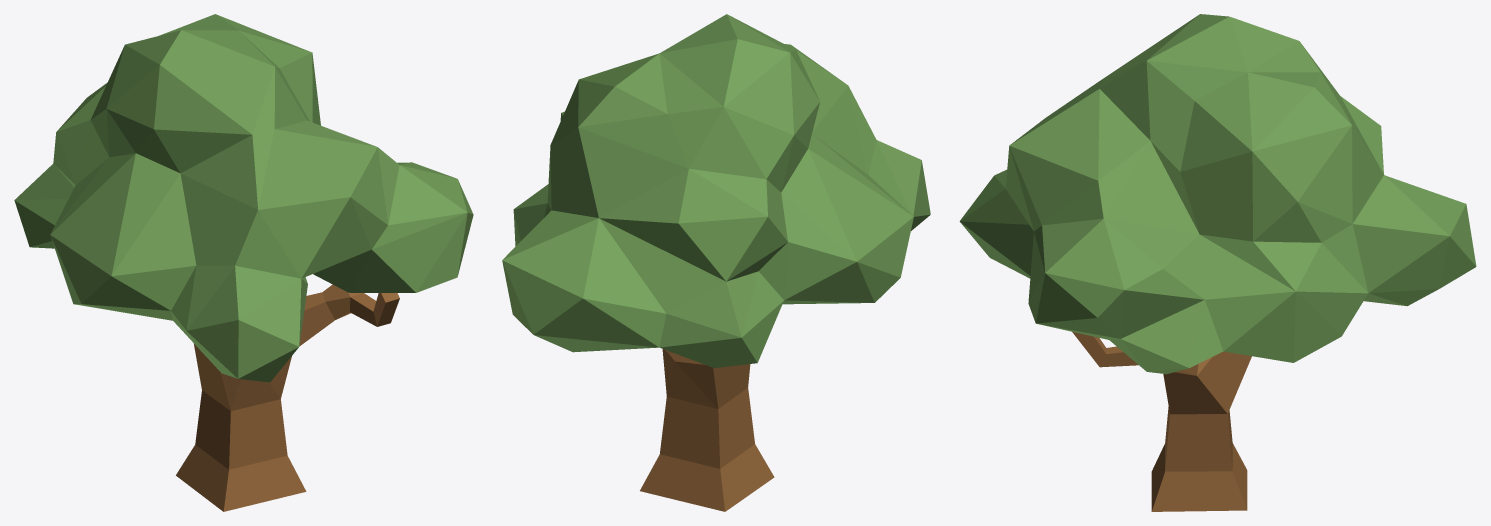
File: tree2.glb
3 views of the same model, side by side, from view 1: azimuth 30°, elevation 25°; view 2: azimuth 150°, elevation 25°; view 3: azimuth 270°, elevation 25° (orthographic). The views are drawn at different scales.
Visible parts, largest first — view 1: Tree_Forest_06.001; view 2: Tree_Forest_06.001; view 3: Tree_Forest_06.001.
Part boxes in pixels (box(x1,y1,x2,y2)): Tree_Forest_06.001: box(14, 14, 473, 511); Tree_Forest_06.001: box(502, 14, 930, 511); Tree_Forest_06.001: box(959, 14, 1476, 511).
Bounding box in the file's own units: 18 × 21.99 × 22.73.
